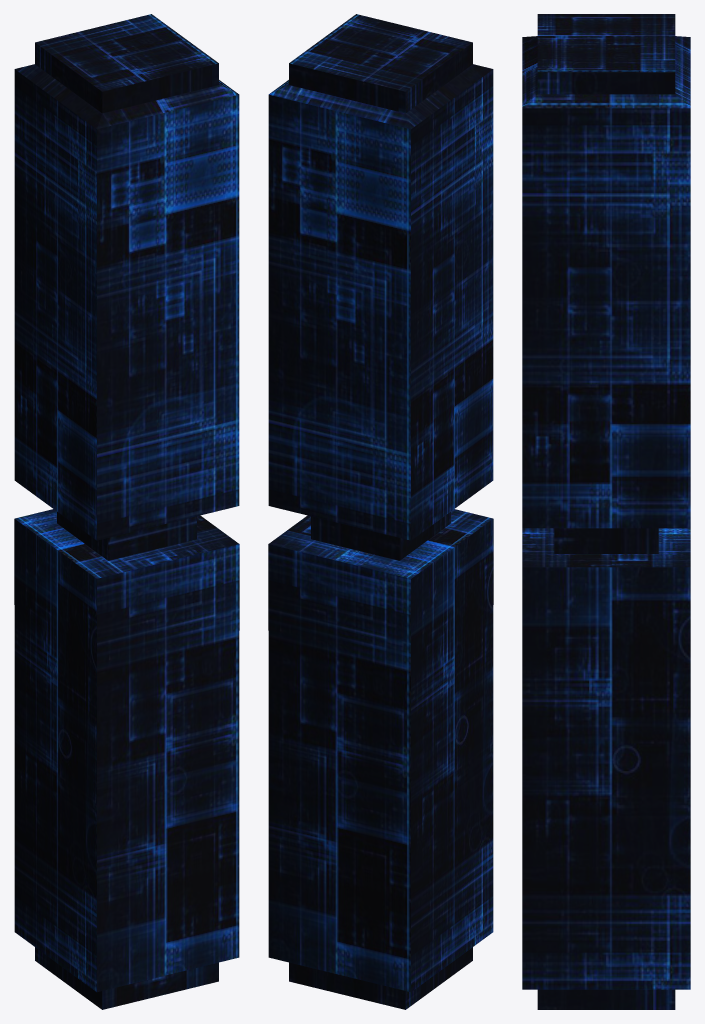
The model's file is stolb.glb.
The picture shows the model from 3 angles, left to right: view 1: azimuth 30°, elevation 25°; view 2: azimuth 150°, elevation 25°; view 3: azimuth 270°, elevation 25°; orthographic projection. The views are drawn at different scales.
Parts seen in each view (by area): view 1: Cube; view 2: Cube; view 3: Cube.
Part boxes in pixels (box(x1,y1,x2,y2)): Cube: box(14, 14, 239, 1009); Cube: box(268, 14, 493, 1009); Cube: box(522, 14, 690, 1009).
Size of what is drawn, in the model's own units: 1 by 6.15 by 1.
1 material, 1 textured.
